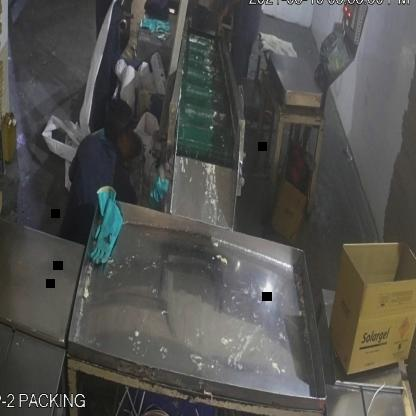no_glove: (212, 0, 254, 42)
